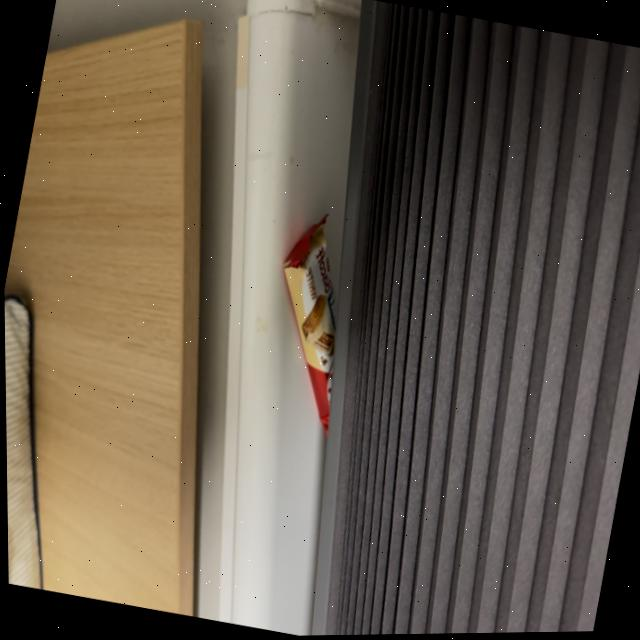chocolate: (249, 202, 375, 445)
